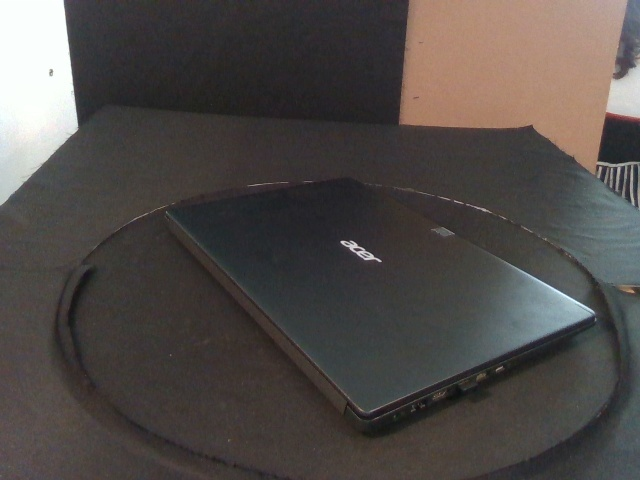laptop: (164, 176, 599, 434)
